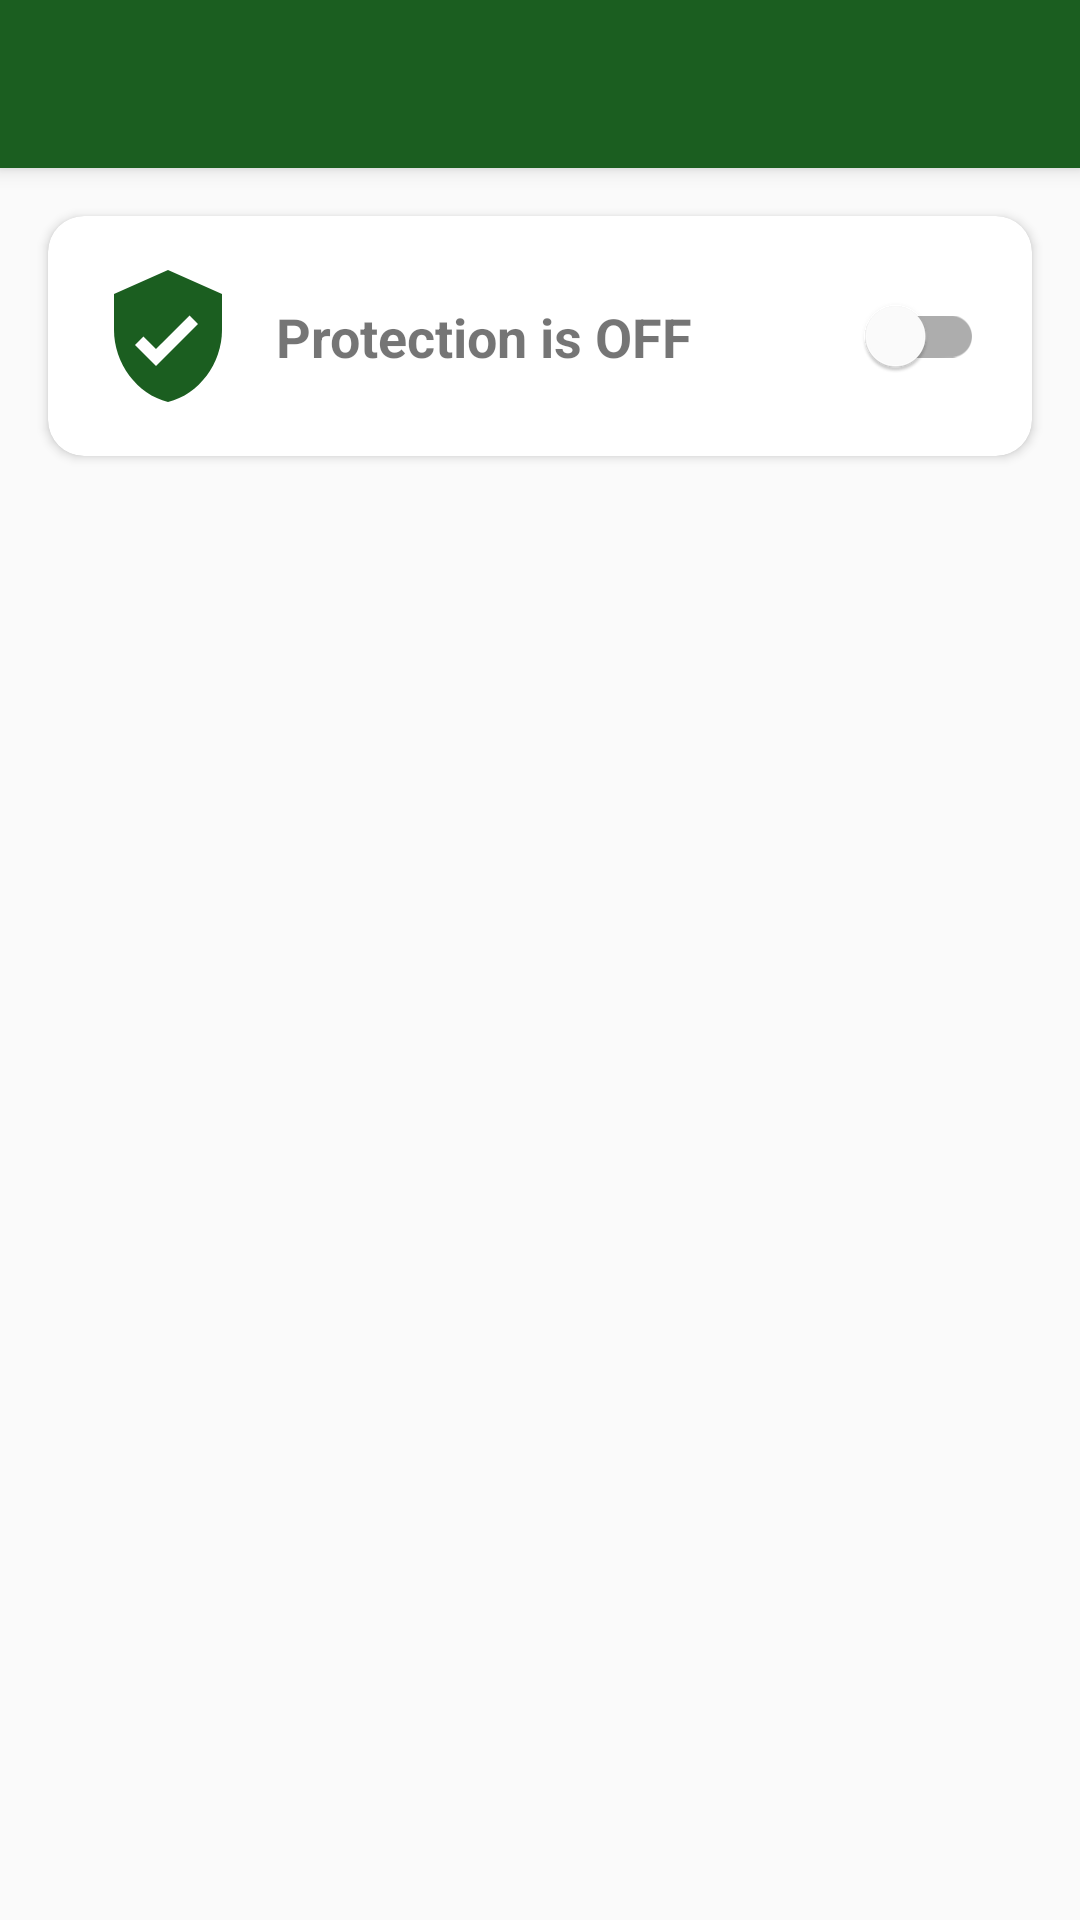

Locate icon controls on the screen. Image size 1080w x 1920h, boxes as (x1, y1, x2, y2).
Shield icon: (114, 270, 222, 402)
